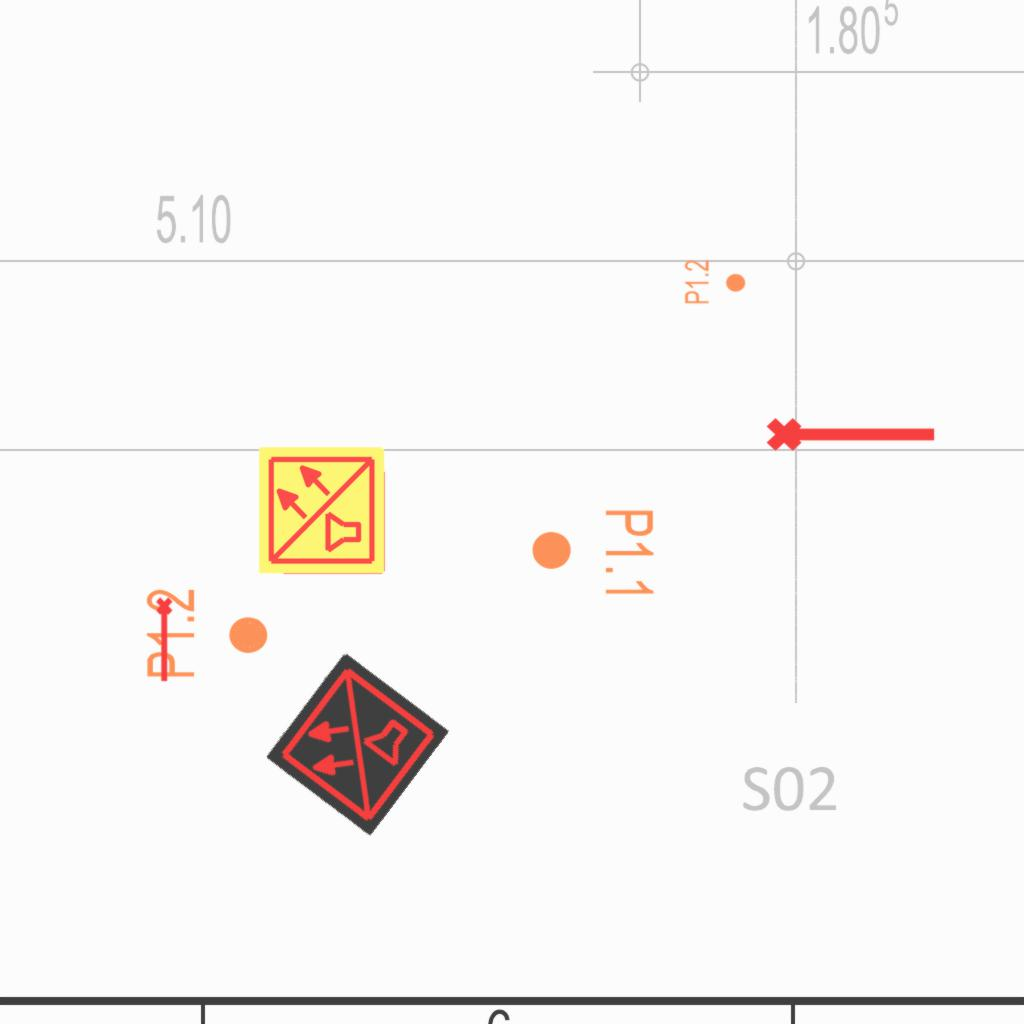ASR_Ansaugoeffnung: (764, 409, 940, 455), (154, 596, 177, 684)
Downlight_LED_Einbauleuchten_Flur: (529, 507, 657, 600), (143, 587, 271, 680), (683, 259, 747, 305)
OKW_Multisensormelder_(Kombination_optischer_Rauch-Kahlenmonoxid_Waerme-Melder): (264, 651, 450, 837), (256, 444, 388, 576)
